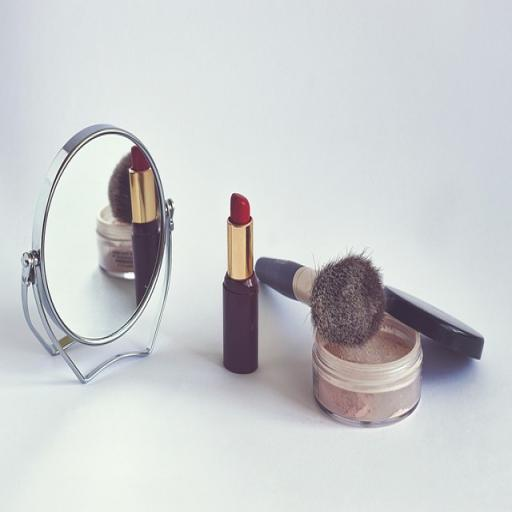lipstick: (224, 194, 258, 374), (129, 147, 159, 304)
